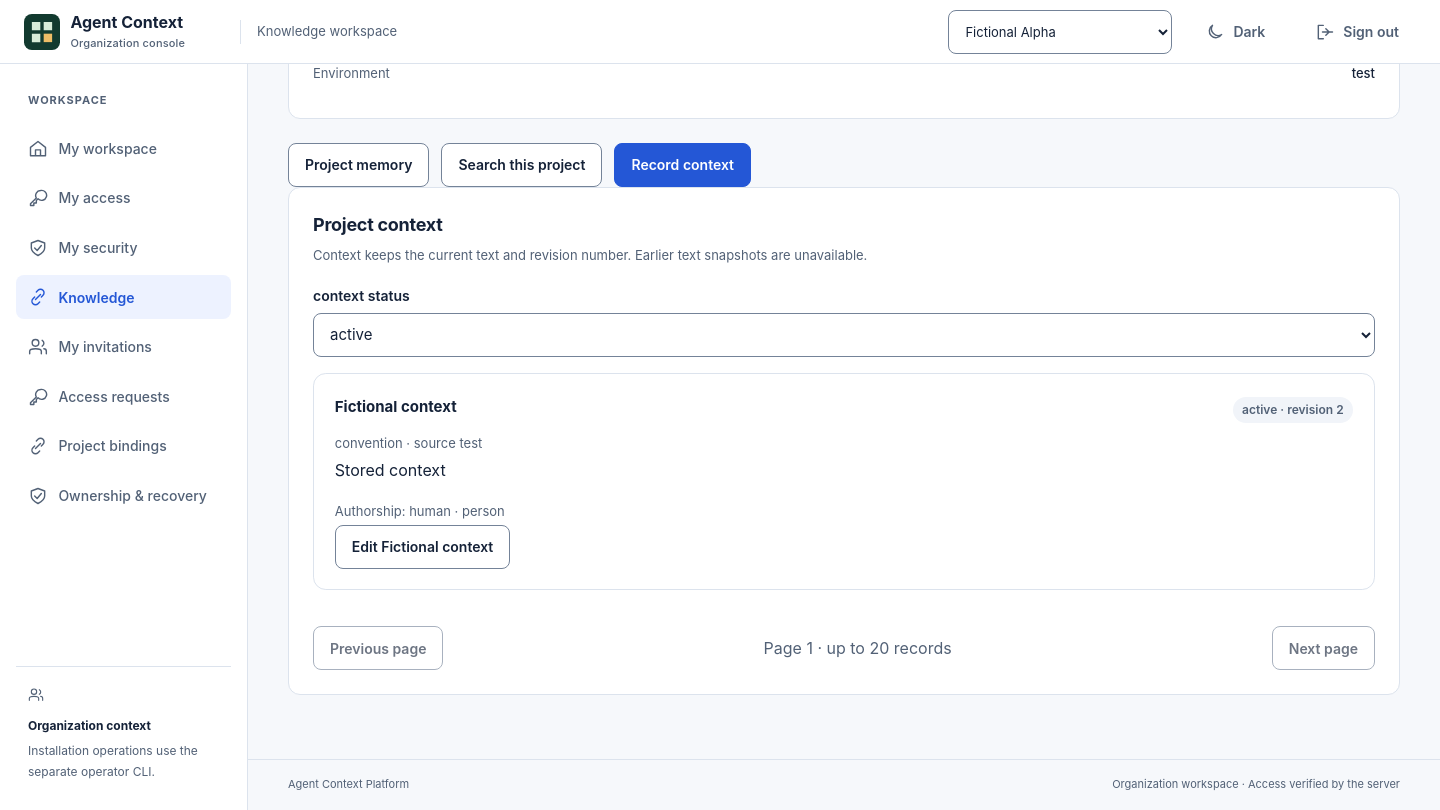
Test case: knowledge writes and history › preserves a context draft on 409 and requires explicit comparison before retry
This screenshot has width=1440, height=810.
(page scrolled)
Click the button "Edit Fictional context" at (423, 547), box 335,525 -> 510,569
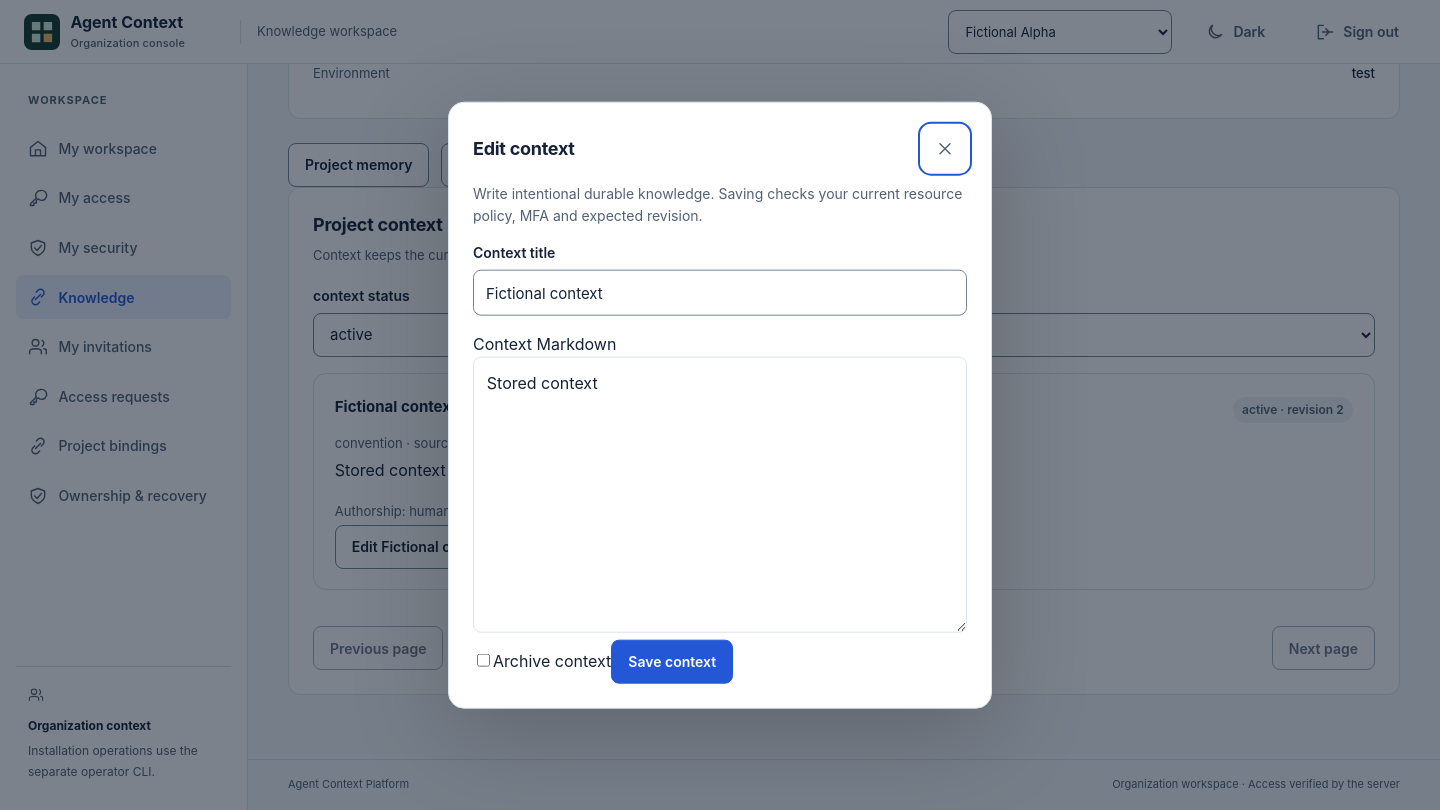
Replace the text in the text box labelled "Context Markdown" with "My unsaved draft" at (720, 495), box 473,357 -> 967,633
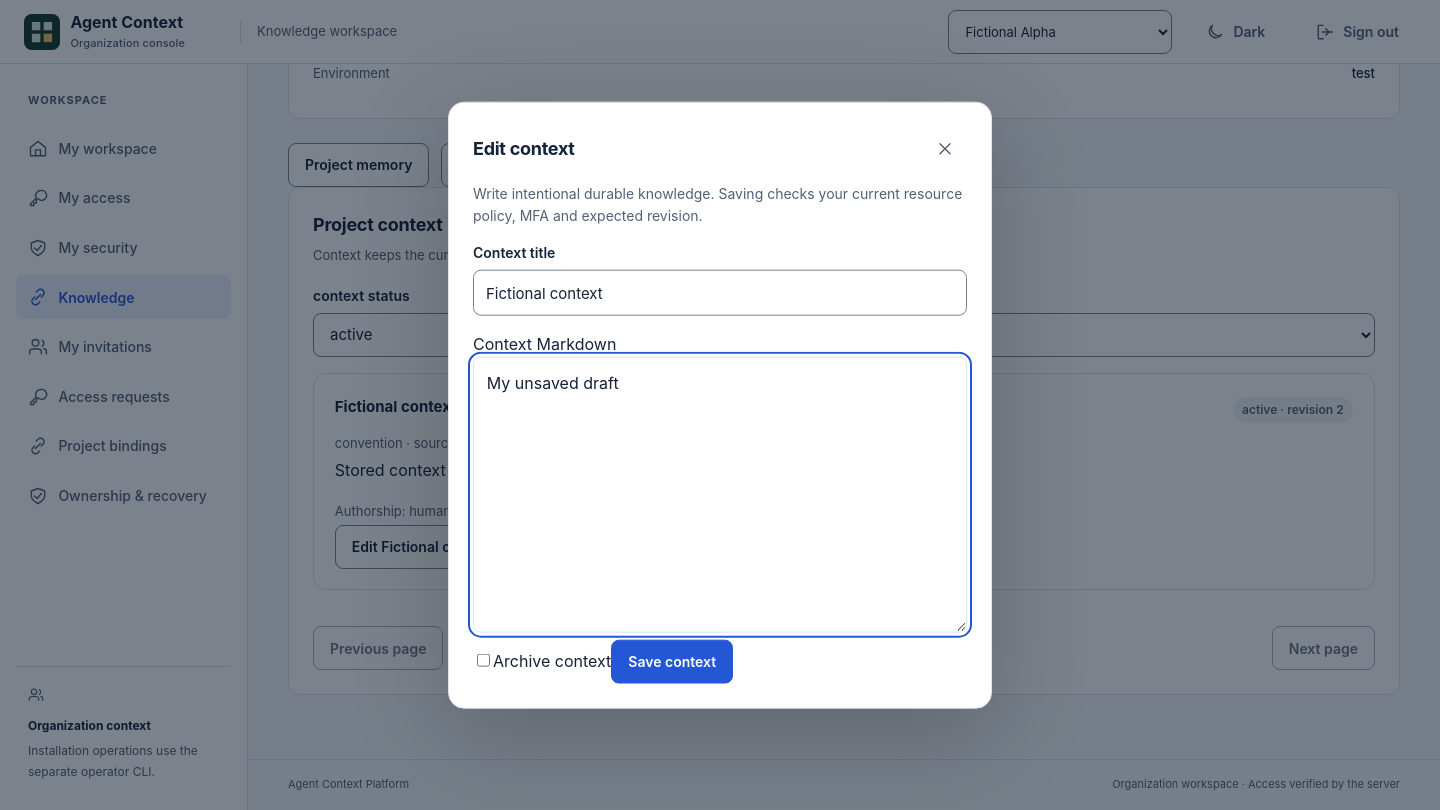
Click the button "Save context" at (672, 661), box 611,639 -> 733,683
(page scrolled)
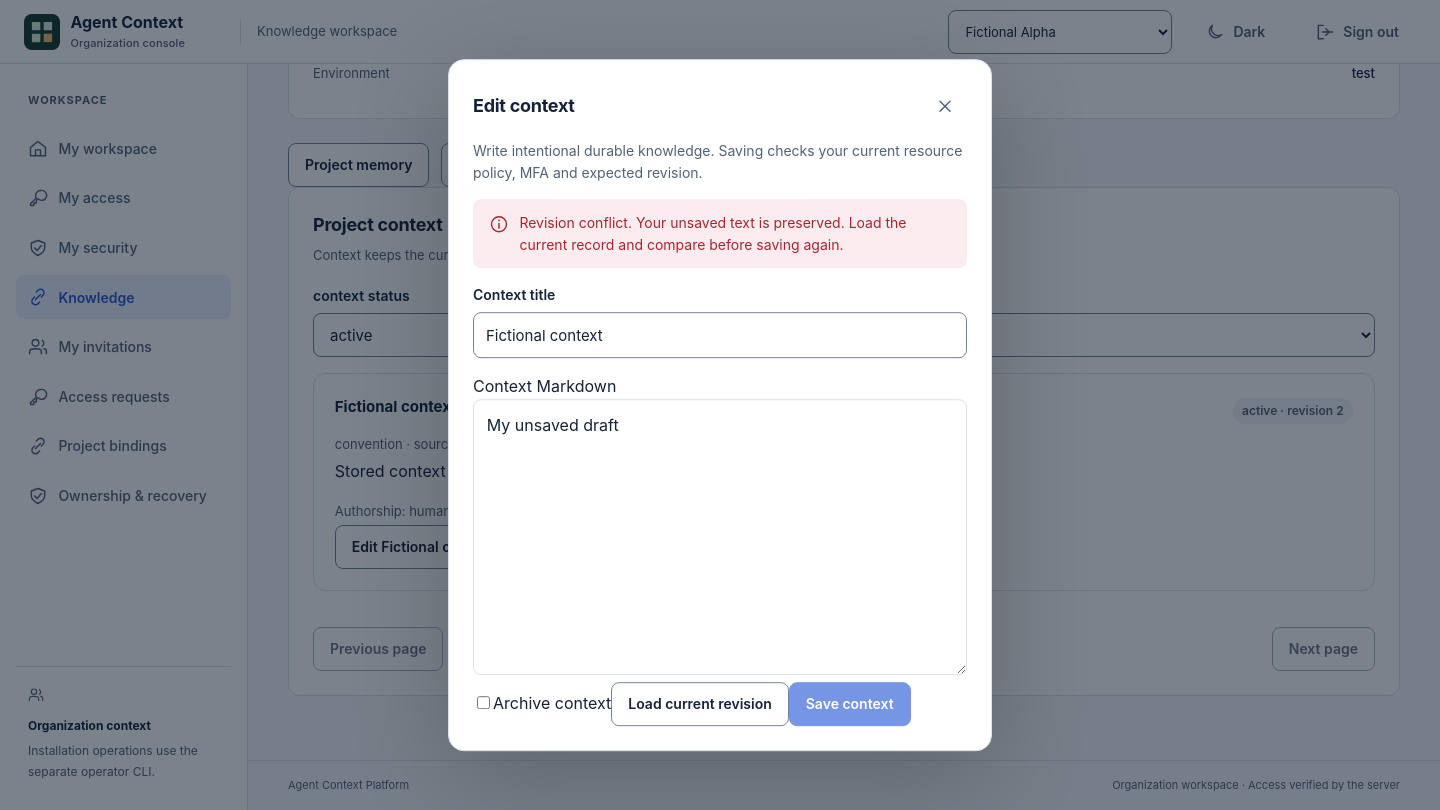
Now the text "Revision conflict. Your unsaved text is preserved" is shown, box 519,214 -> 906,253
Now the button "Save context" is disabled, box 789,682 -> 911,726
Click the button "Load current revision" at (700, 704), box 611,682 -> 789,726
(page scrolled)
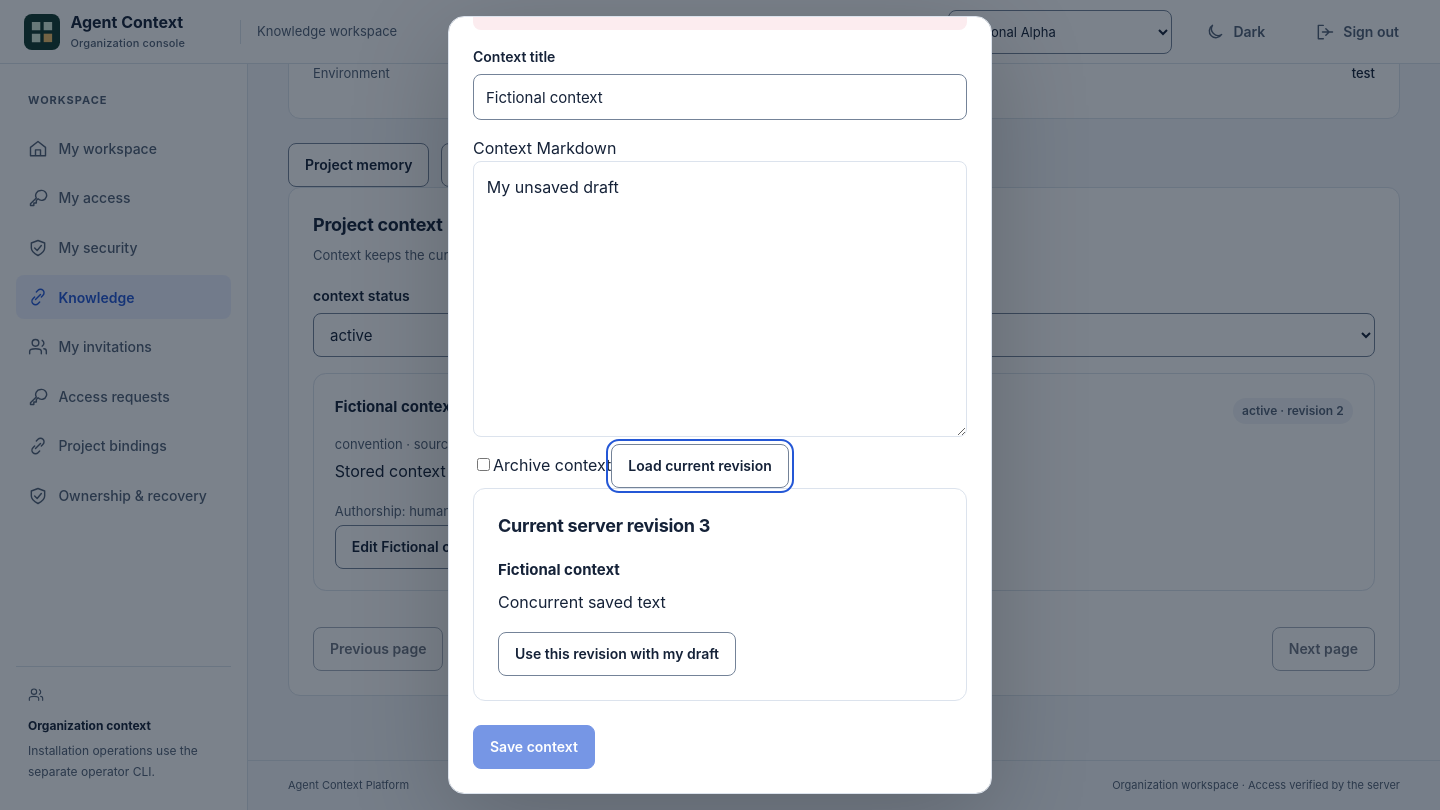
Now the text "Concurrent saved text" is shown, box 498,592 -> 666,612
Click the button "Use this revision with my draft" at (617, 654), box 498,632 -> 736,676
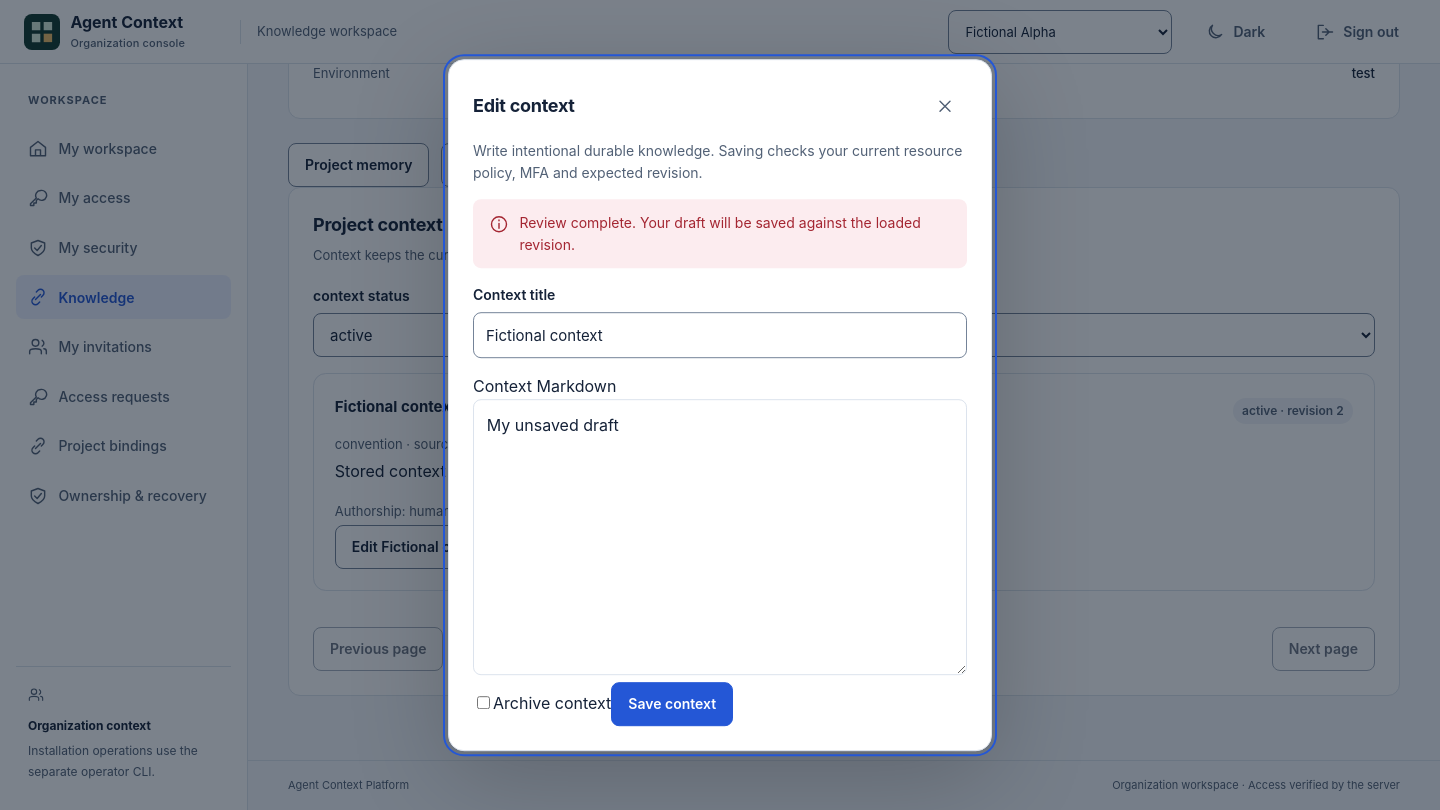
Now the button "Save context" is enabled, box 611,682 -> 733,726
